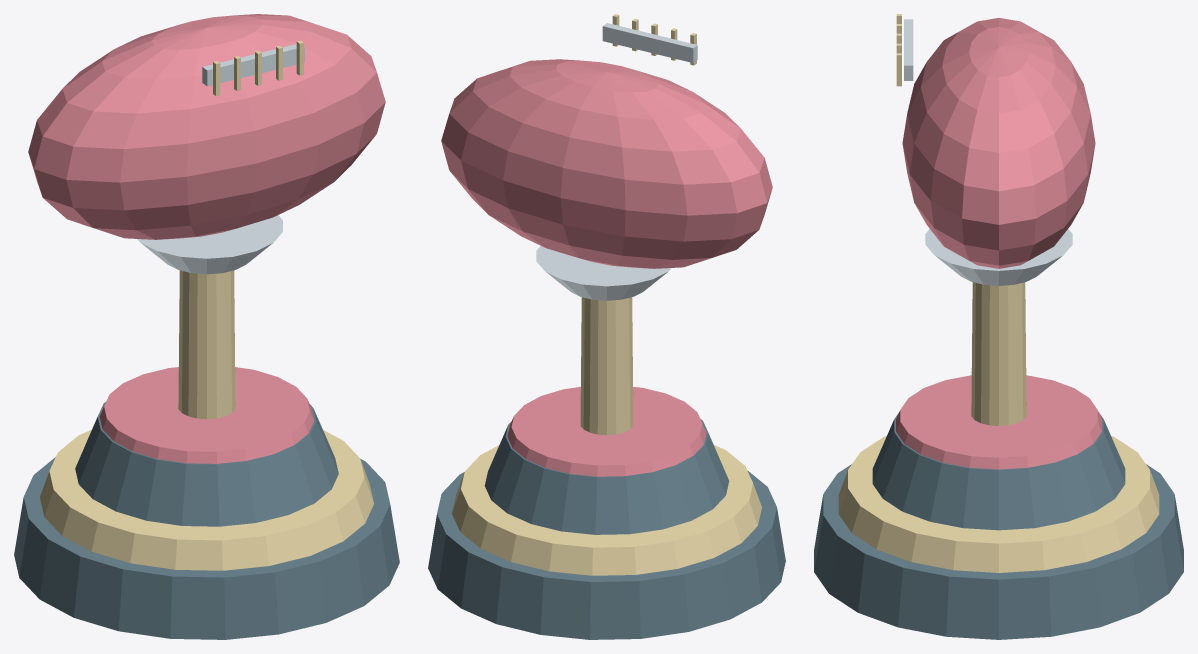
Rendered from iron-bowl.glb.
3 renders of one model, left to right at view 1: azimuth 30°, elevation 25°; view 2: azimuth 150°, elevation 25°; view 3: azimuth 270°, elevation 25°, orthographic. The views are drawn at different scales.
Bounding box in the file's own units: 1.24 × 1.87 × 1.19.
